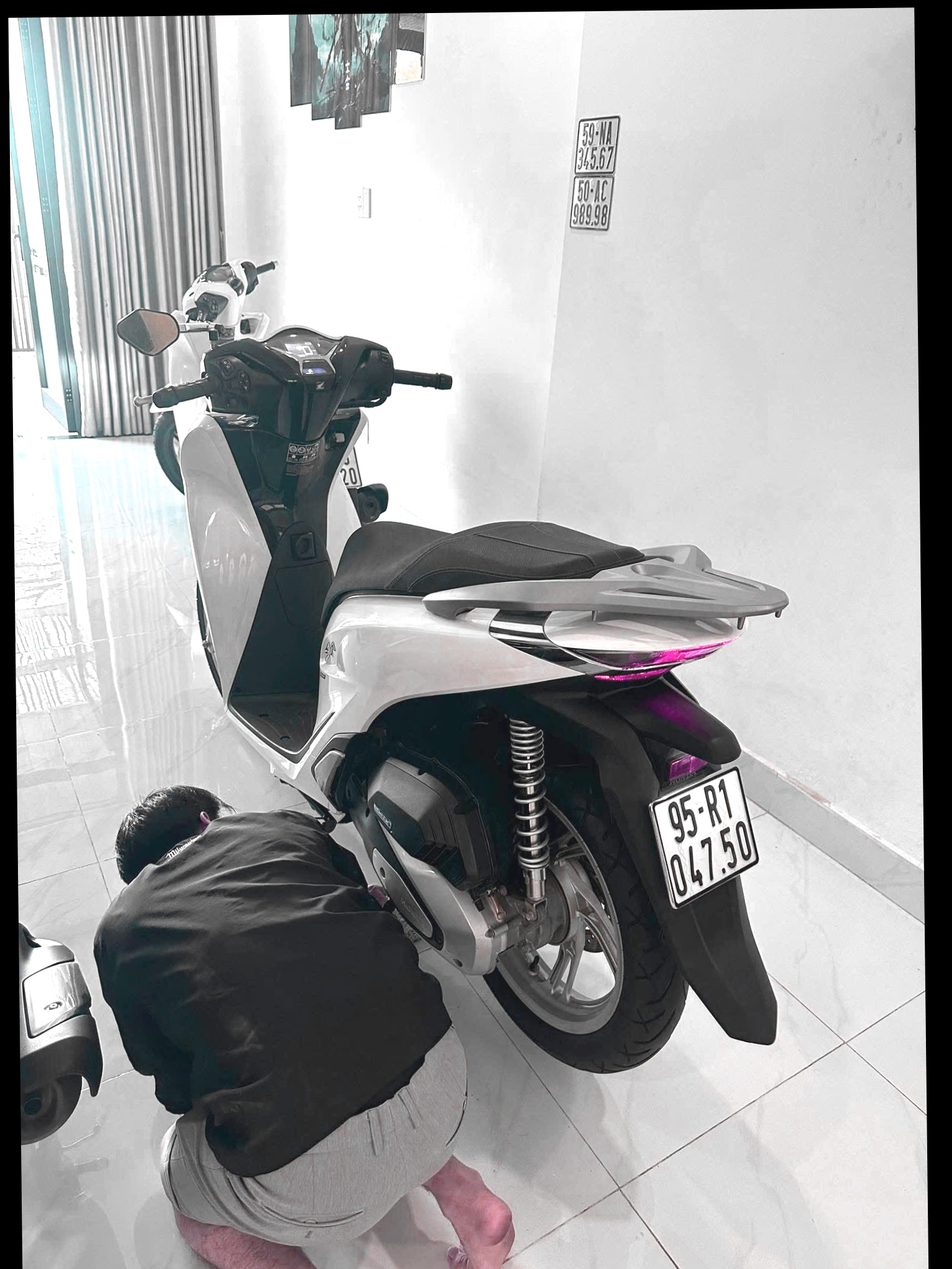Bien-so: (667, 745, 789, 891)
